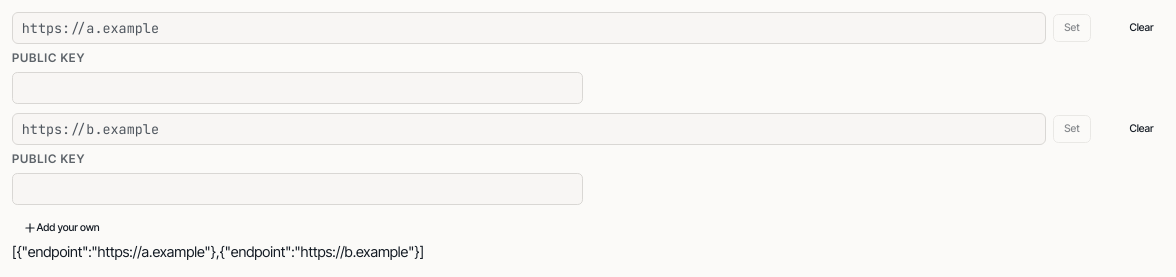
Scenario: SchemaSetValueArrayControl › clearing the first of two rows leaves the second row showing its own value
Replace the text in the field named "Witnesses 1" with "https://a-edited.example": (529, 28) [12,12,1046,44]
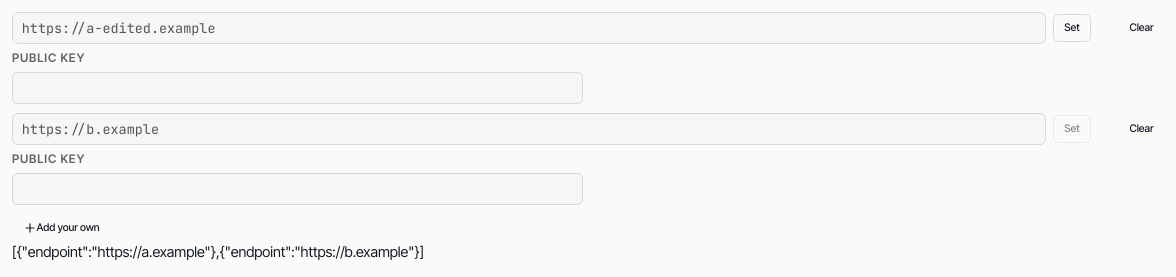
Click the 1st button "Clear": (1142, 28) [1119,14,1164,42]
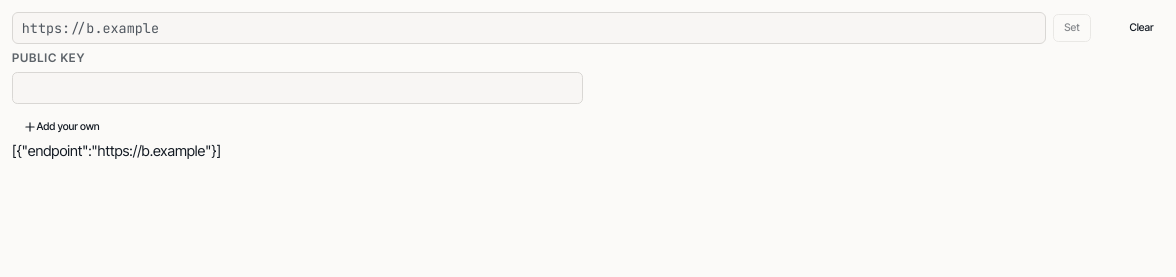
expect the field named "Witnesses 1" holds "https://b.example": met, box [12,12,1046,44]
expect the text with test id "value" reads "[{\"endpoint\":\"https://b.example\"}]": met, box [12,142,221,160]
